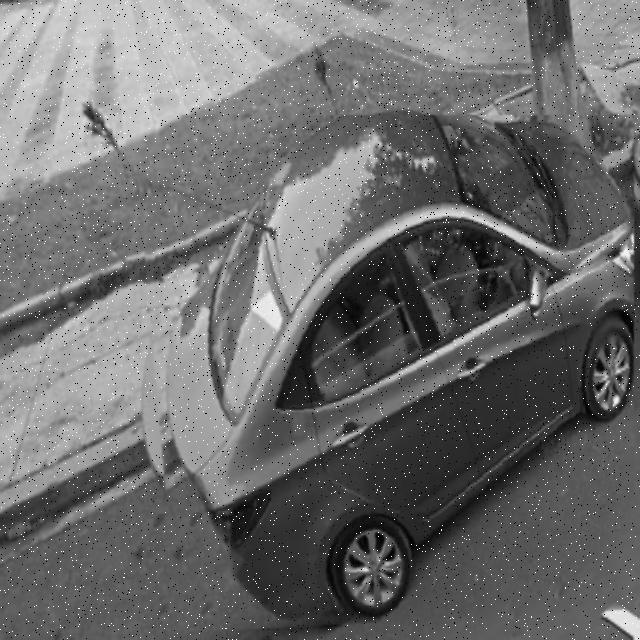car: (134, 116, 636, 634)
